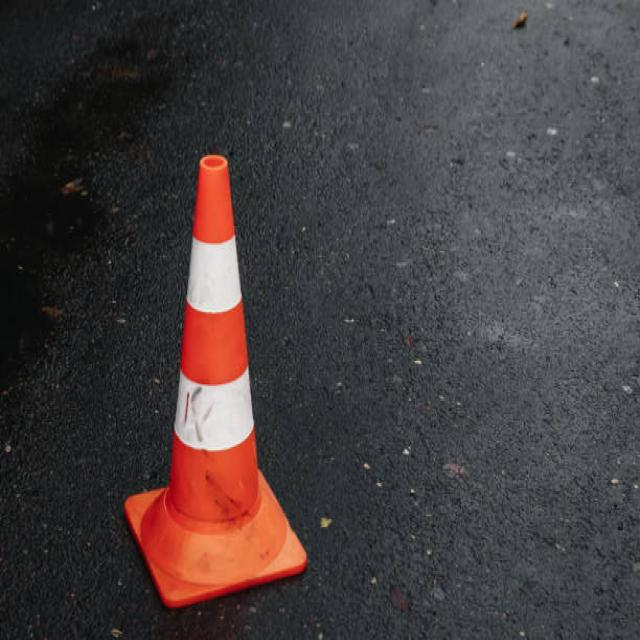Traffic Cone: (107, 122, 322, 620)
